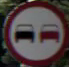No overtake: (7, 6, 60, 54)
